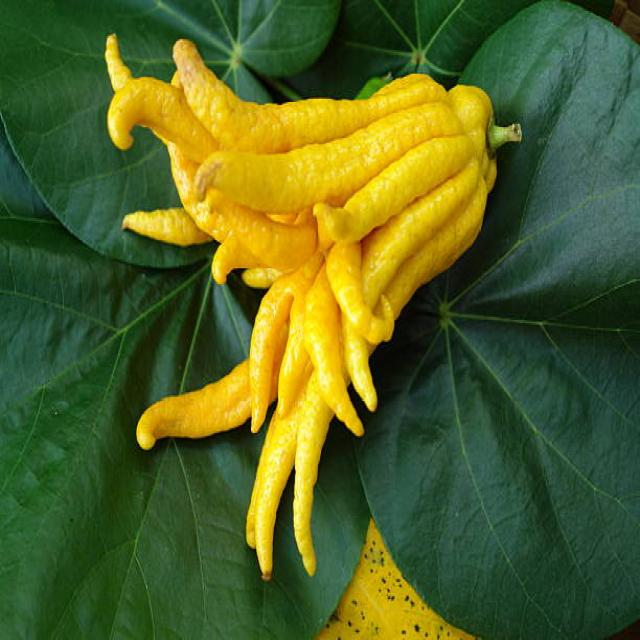PhatThu: (95, 14, 530, 595)
